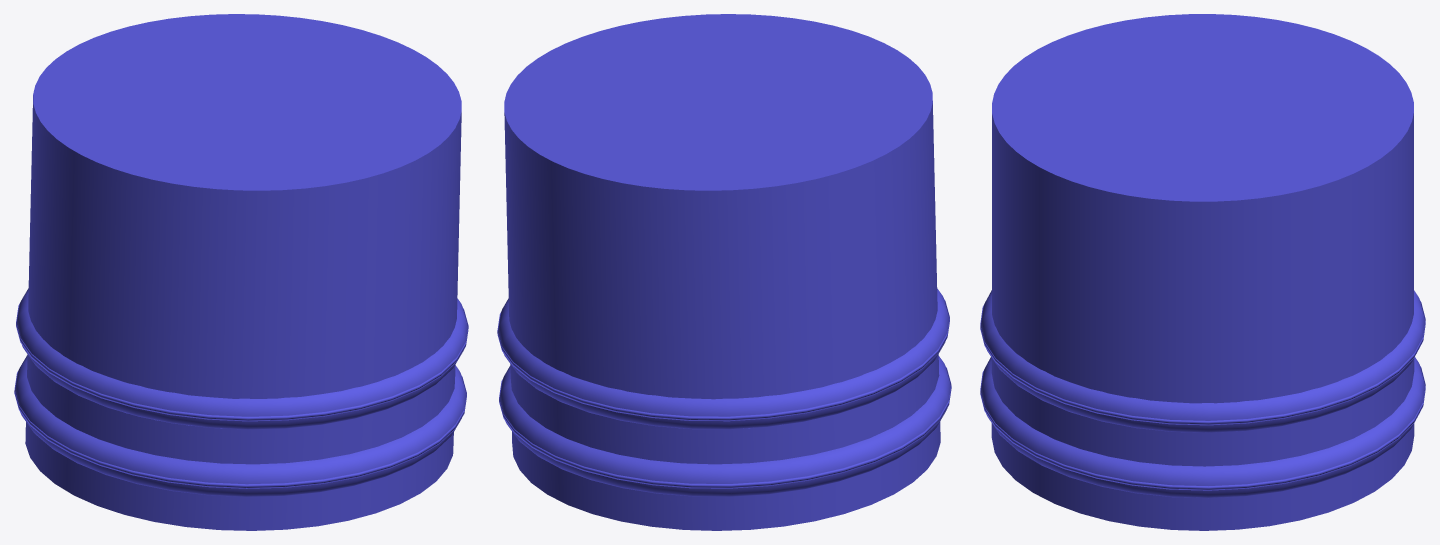
The model's file is bombilla173.obj.
3 views of the same model, side by side, from view 1: azimuth 30°, elevation 25°; view 2: azimuth 150°, elevation 25°; view 3: azimuth 270°, elevation 25° (orthographic).
Parts seen in each view (by area): view 1: Cylinder001, Cylinder004, Cylinder003, Cylinder002, Cylinder006; view 2: Cylinder001, Cylinder004, Cylinder003, Cylinder002, Cylinder006; view 3: Cylinder001, Cylinder004, Cylinder003, Cylinder002, Cylinder006.
Part boxes in pixels (x1,y1,x2,y2): Cylinder001: (28, 14, 461, 398); Cylinder004: (14, 355, 466, 496); Cylinder003: (27, 355, 455, 464); Cylinder002: (16, 288, 468, 429); Cylinder006: (25, 422, 453, 530); Cylinder001: (504, 14, 937, 399); Cylinder004: (499, 356, 951, 496); Cylinder003: (510, 354, 939, 464); Cylinder002: (497, 289, 949, 429); Cylinder006: (512, 421, 940, 530); Cylinder001: (992, 14, 1413, 403); Cylinder004: (980, 357, 1425, 498); Cylinder003: (991, 358, 1414, 466); Cylinder002: (980, 290, 1425, 432); Cylinder006: (991, 423, 1414, 530).
Size of the model in its own units: 72.49 by 61.22 by 72.21.
